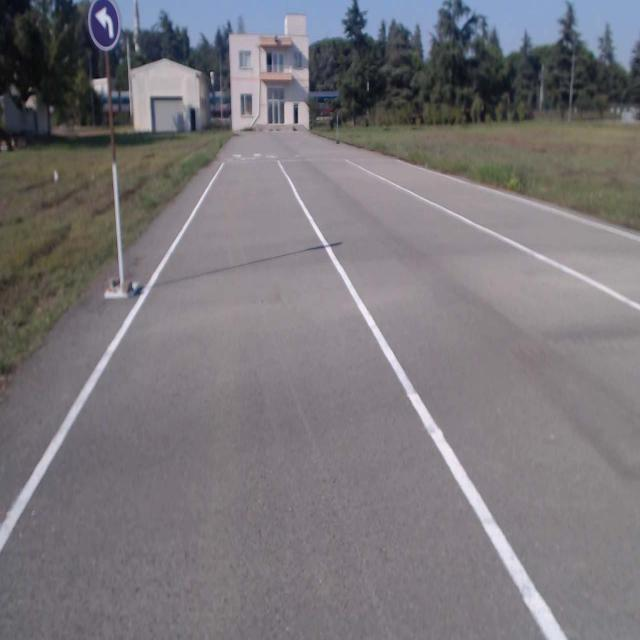sol: (89, 1, 119, 48)
